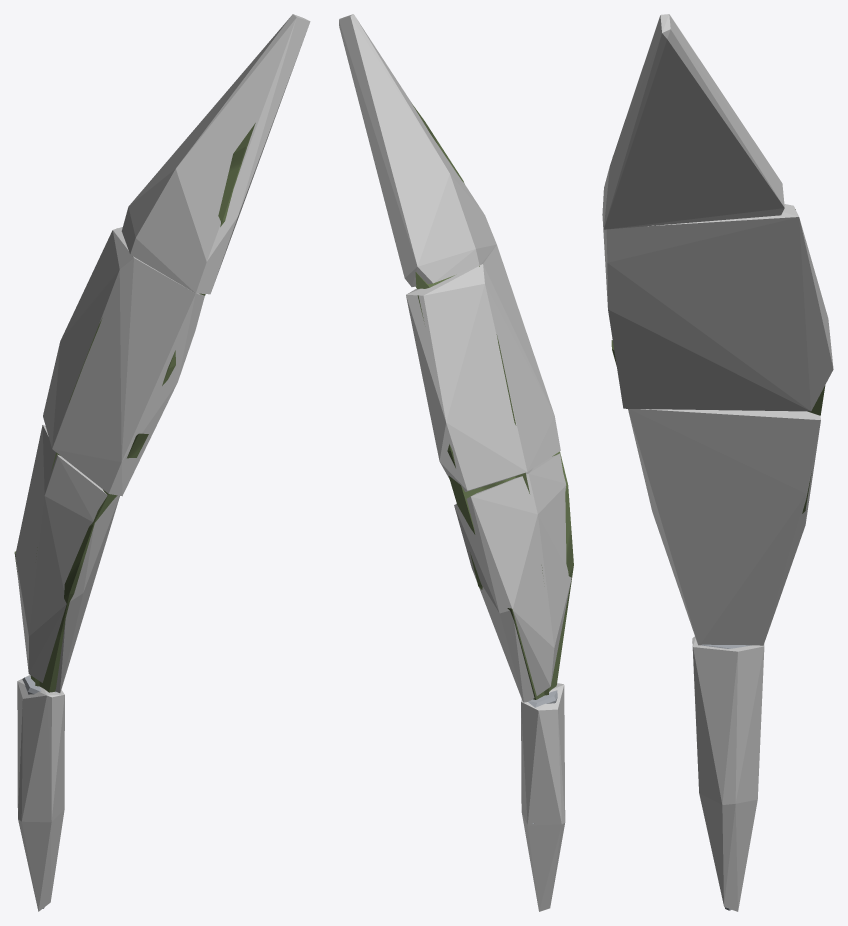
File: SM_Item_Quill_02.fbx
The picture shows the model from 3 angles, left to right: view 1: azimuth 30°, elevation 25°; view 2: azimuth 150°, elevation 25°; view 3: azimuth 270°, elevation 25°; orthographic projection. The views are drawn at different scales.
Visible parts, largest first — view 1: SM_Item_Quill_02_ConvexHulls, SM_Item_Quill_02; view 2: SM_Item_Quill_02_ConvexHulls, SM_Item_Quill_02; view 3: SM_Item_Quill_02_ConvexHulls.
Part boxes in pixels (x1,y1,x2,y2): SM_Item_Quill_02_ConvexHulls: (15, 14, 310, 911); SM_Item_Quill_02: (14, 123, 255, 908); SM_Item_Quill_02_ConvexHulls: (339, 14, 571, 911); SM_Item_Quill_02: (412, 104, 573, 823); SM_Item_Quill_02_ConvexHulls: (602, 14, 833, 911).
Bounding box in the file's own units: 15 × 9.54 × 46.91.
2 materials, 1 textured.
